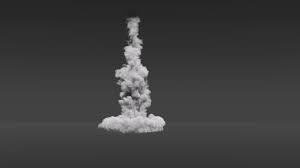smoke: (100, 16, 169, 135)
